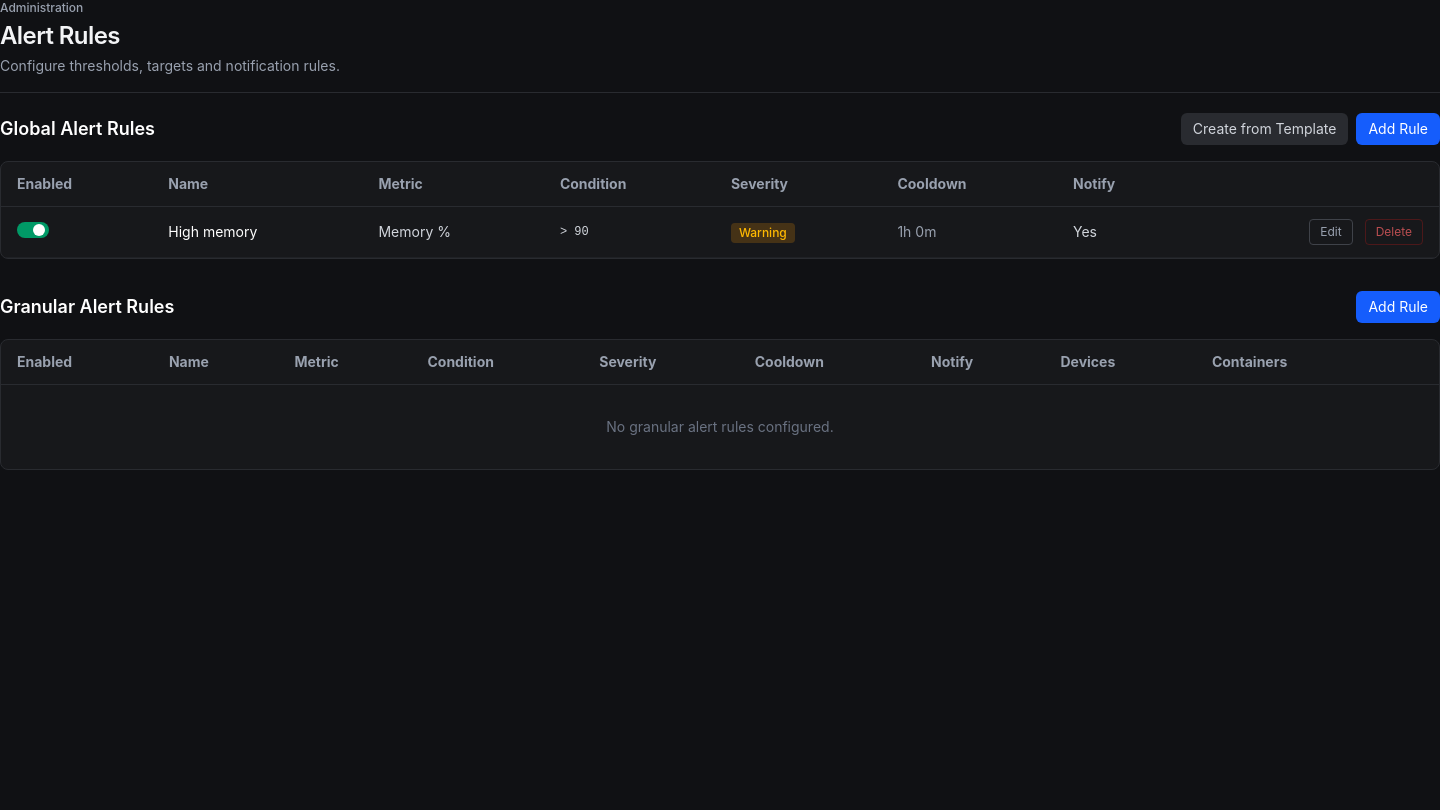
Test: [UIF AC-069] delete rule (global table) uses danger dialog › confirming deletes by id and raises the "Rule deleted" toast
What coordinates should you click on to do the following:
click the button "Delete"
I would click on:
 (1394, 232)
Its box is [1365,219,1423,245].
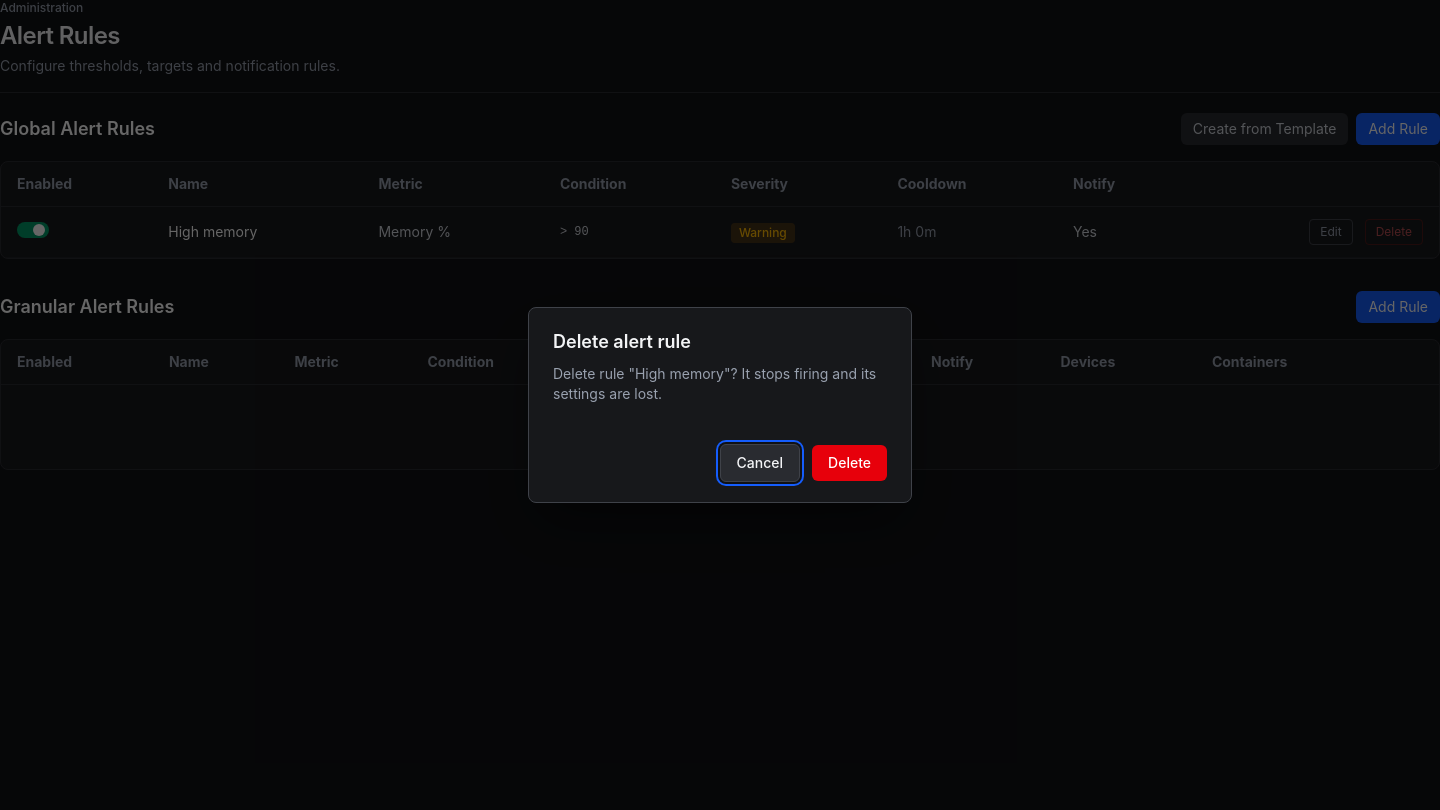
What coordinates should you click on to do the following:
click the button "Delete"
I would click on:
 (850, 463)
Its box is [812,445,887,481].
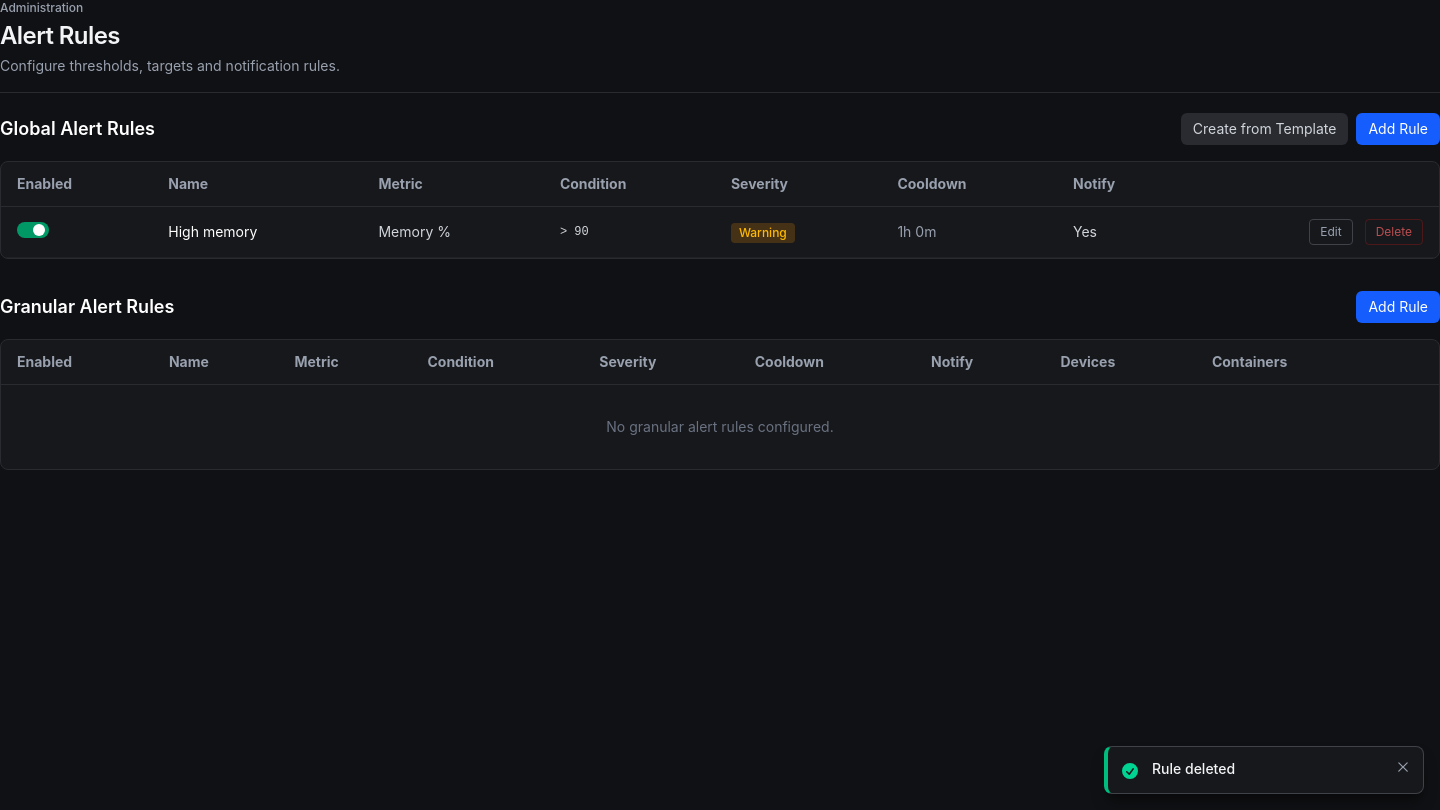
Expected: the text "Rule deleted" is shown, [1152,760,1235,777]
